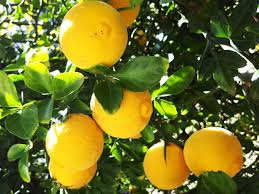orange: (56, 6, 131, 68), (84, 75, 156, 137), (183, 122, 244, 180), (40, 114, 103, 164), (141, 139, 191, 187), (47, 159, 100, 187)
